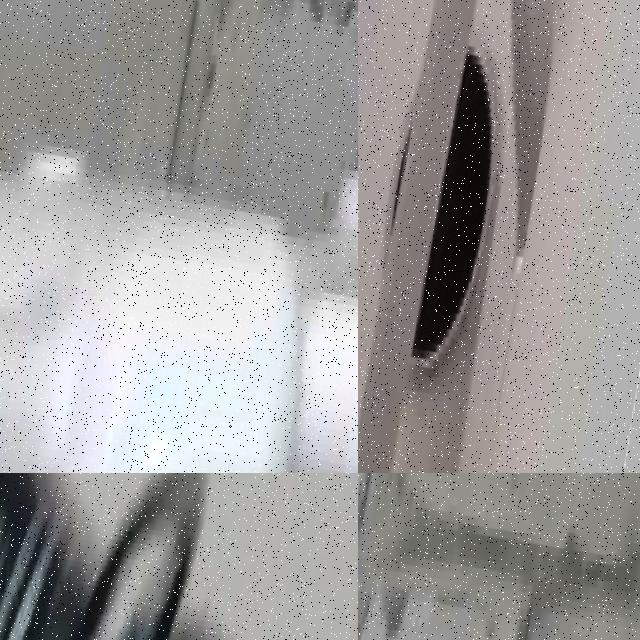drone: (0, 0, 358, 473), (358, 0, 640, 473), (0, 473, 358, 640), (358, 473, 640, 640)
